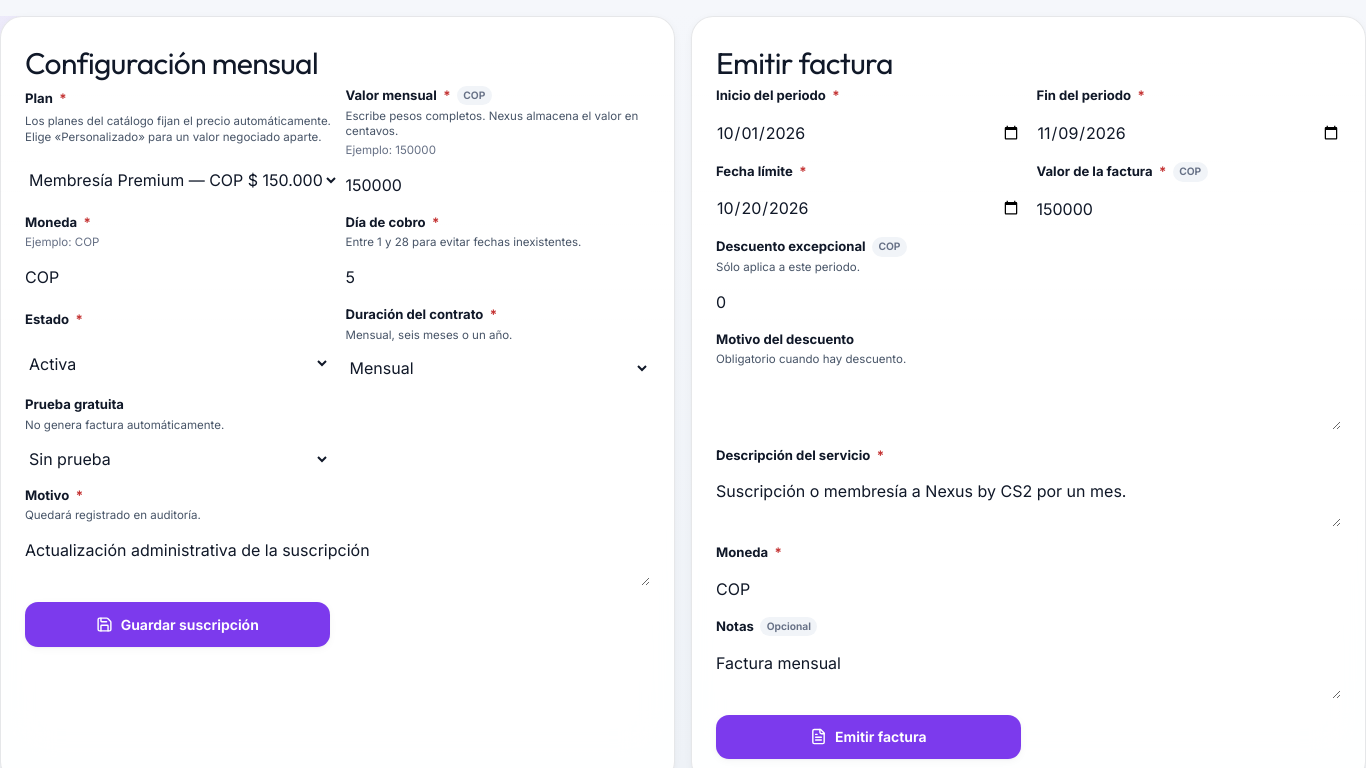
SubscriptionConfigCard › selecting a catalog plan auto-fills the price and locks it from manual editing
The image size is (1366, 768).
Step 1. Select "Membresía Premium — COP $ 150.000" in the 1st dropdown → x=182, y=180, box [25,164,339,197]
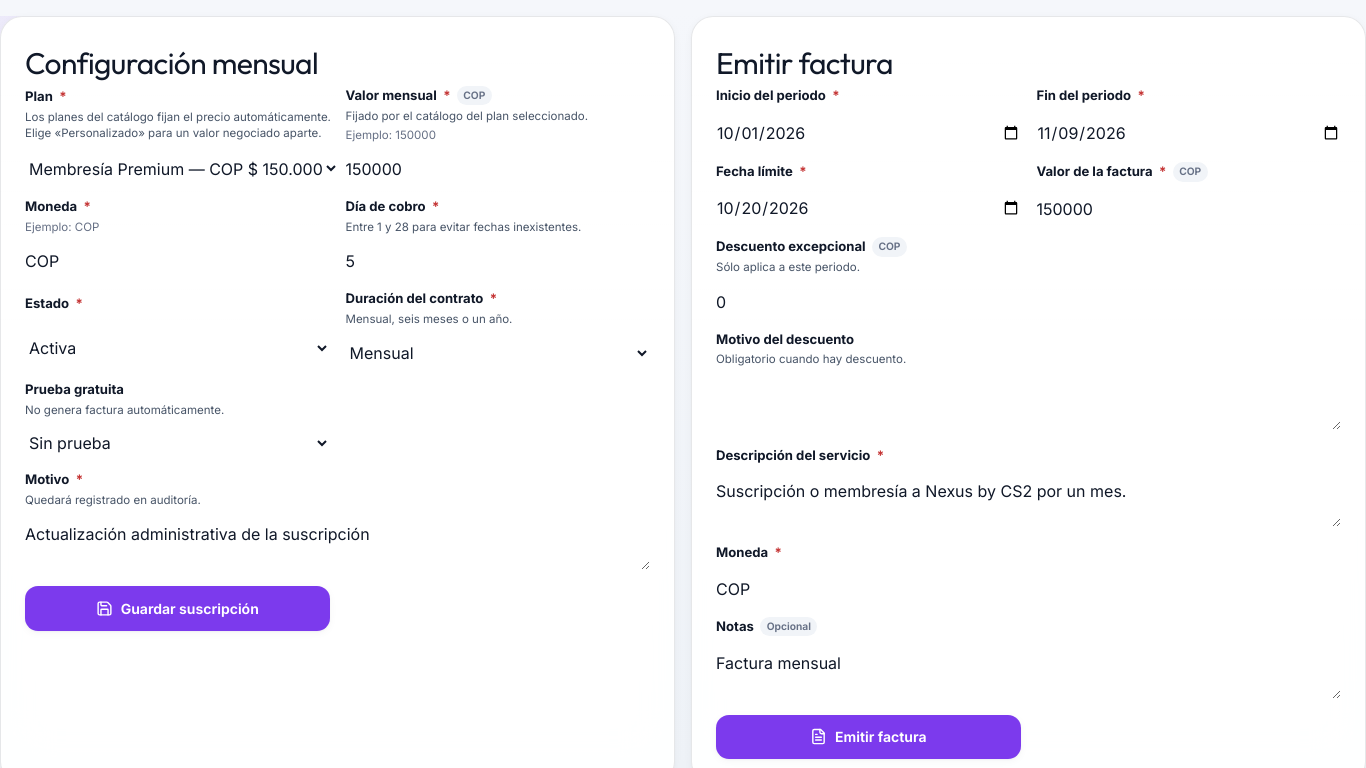
Result: the 1st number field is disabled at [346,157,650,181]
